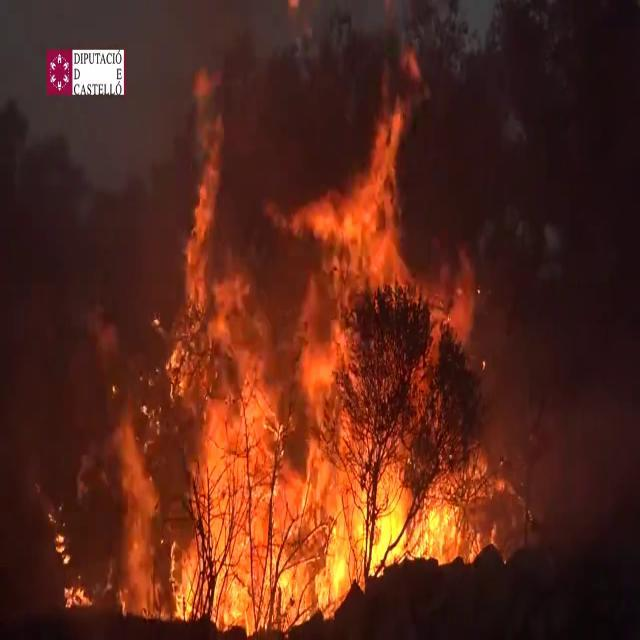Fire: (156, 80, 504, 624)
